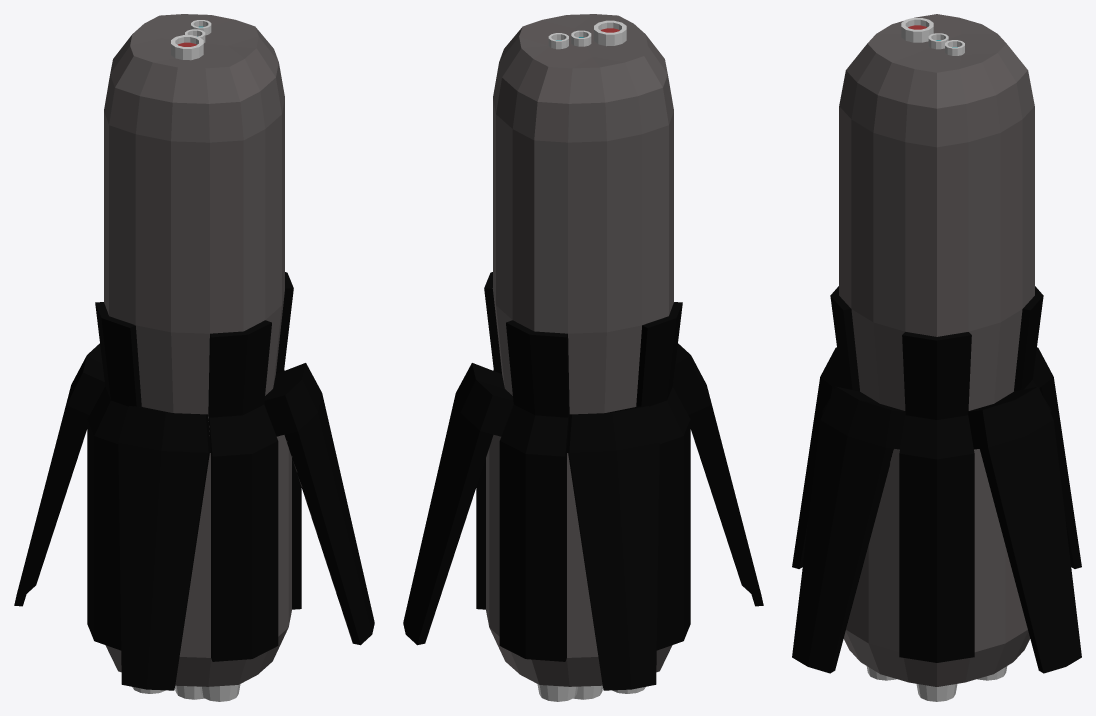
Rendered from missileLV5.fbx.
3 renders of one model, left to right at view 1: azimuth 30°, elevation 25°; view 2: azimuth 150°, elevation 25°; view 3: azimuth 270°, elevation 25°, orthographic.
Visible parts, largest first — view 1: r5; view 2: r5; view 3: r5.
Boxes of the visible parts, left/top/right/bottom form: r5: left=14, top=14, right=374, bottom=701; r5: left=403, top=14, right=763, bottom=701; r5: left=792, top=14, right=1081, bottom=701.
Bounding box in the file's own units: 469 × 1170 × 469.
Materials: 1 (1 with a texture image).
